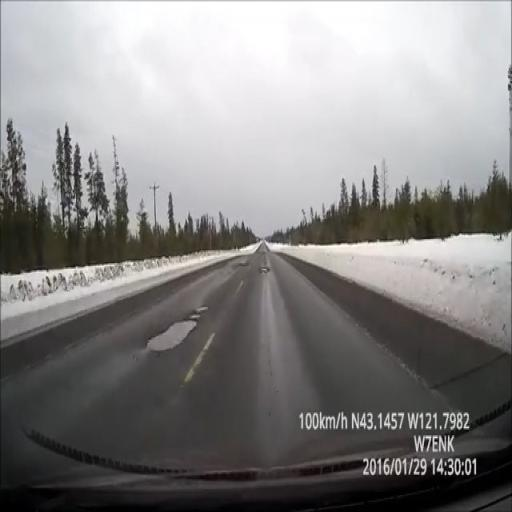Potholes: (147, 307, 206, 354), (142, 309, 199, 351)
